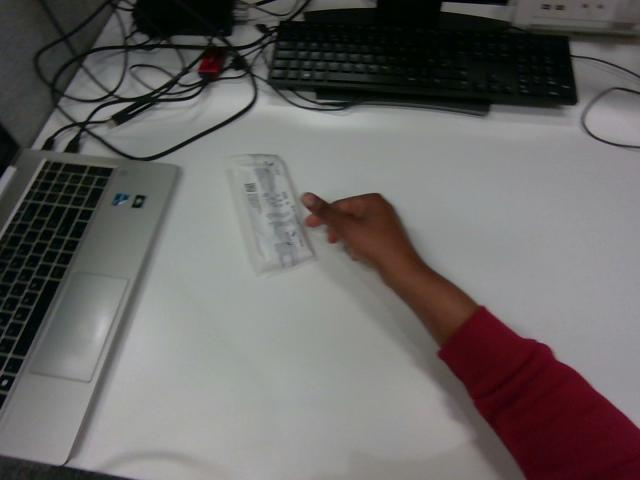syringe: (230, 154, 314, 273)
